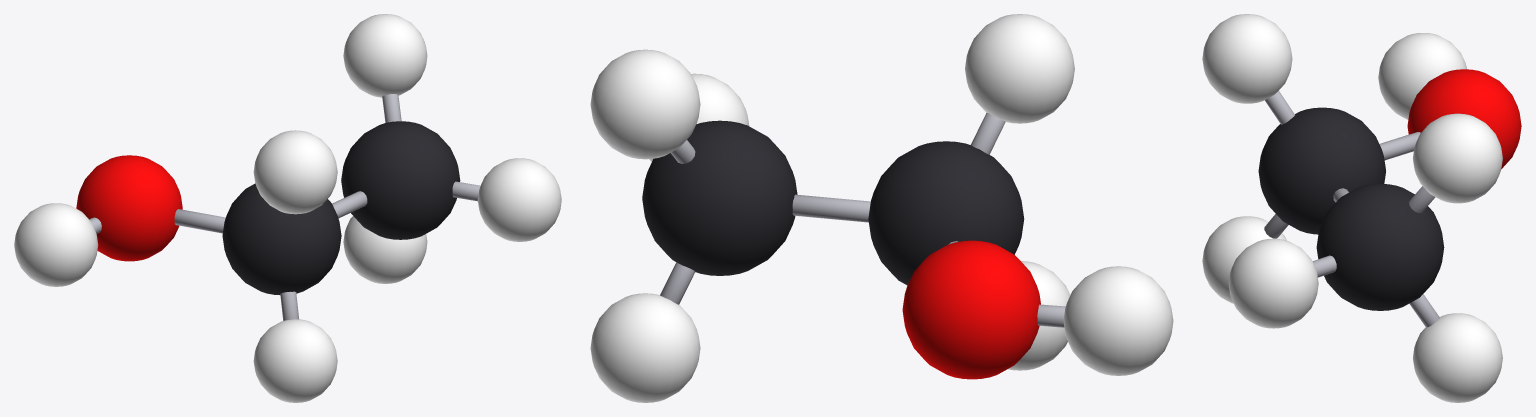
Rendered from ethanol.glb.
The picture shows the model from 3 angles, left to right: view 1: azimuth 30°, elevation 25°; view 2: azimuth 150°, elevation 25°; view 3: azimuth 270°, elevation 25°; orthographic projection. The views are drawn at different scales.
Parts seen in each view (by area): view 1: C0, C1, O2, H7, H8, H5, H6, H3, H4, bond1-0, bond0-0; view 2: C0, O2, C1, H8, H3, H4, H7, H6, H5, bond0-0, bond3-0, bond6-0 (+1 smaller); view 3: C0, C1, H3, H5, H7, H4, O2, H8, H6, bond1-0, bond6-0, bond3-0 (+3 smaller).
Part boxes in pixels (x1,y1,x2,y2): C0: (341, 121, 460, 239); C1: (222, 183, 341, 294); O2: (76, 155, 182, 261); H7: (253, 130, 337, 214); H8: (14, 203, 98, 286); H5: (477, 158, 561, 241); H6: (253, 319, 337, 402); H3: (343, 14, 427, 97); H4: (343, 216, 427, 283); bond1-0: (174, 209, 225, 233); bond0-0: (332, 191, 367, 218); C0: (642, 120, 797, 275); O2: (902, 240, 1040, 379); C1: (868, 141, 1024, 285); H8: (1063, 266, 1173, 375); H3: (590, 49, 700, 159); H4: (590, 293, 700, 402); H7: (965, 14, 1074, 123); H6: (1008, 261, 1070, 370); H5: (649, 73, 749, 161); bond0-0: (792, 194, 870, 222); bond3-0: (660, 262, 695, 304); bond6-0: (971, 112, 1005, 154); C0: (1316, 183, 1444, 310); C1: (1258, 107, 1385, 234); H3: (1413, 113, 1502, 203); H5: (1228, 238, 1318, 328); H7: (1202, 14, 1292, 103); H4: (1413, 313, 1502, 402); O2: (1407, 69, 1521, 168); H8: (1378, 33, 1466, 119); H6: (1202, 216, 1286, 303); bond1-0: (1379, 132, 1420, 160); bond6-0: (1265, 91, 1294, 124); bond3-0: (1409, 294, 1439, 327).
Size of the model in its own units: 4.61 by 2.5 by 2.55.
